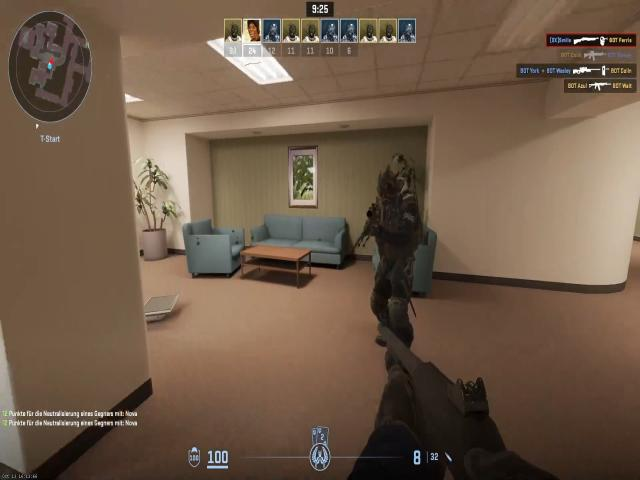CT: (369, 166, 418, 333)
CT-Head: (375, 170, 401, 207)
